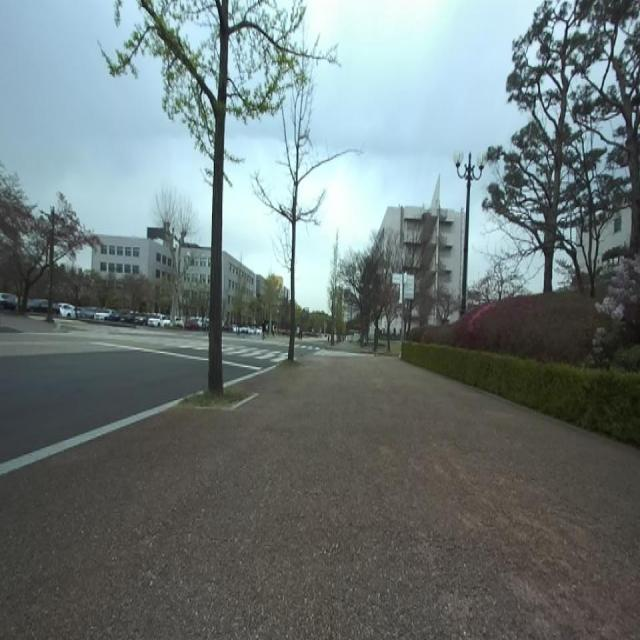sidewalk: (0, 353, 640, 639), (0, 400, 180, 475), (225, 362, 280, 387)
